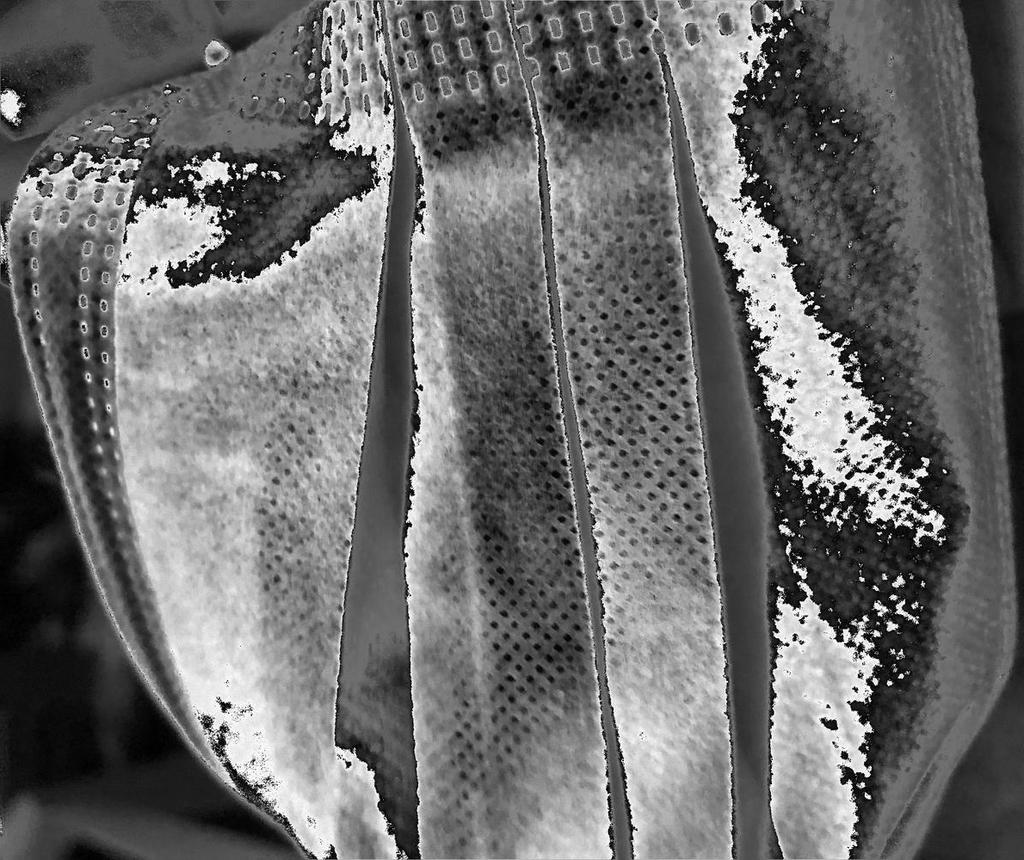Low GSM: (139, 108, 944, 850)
